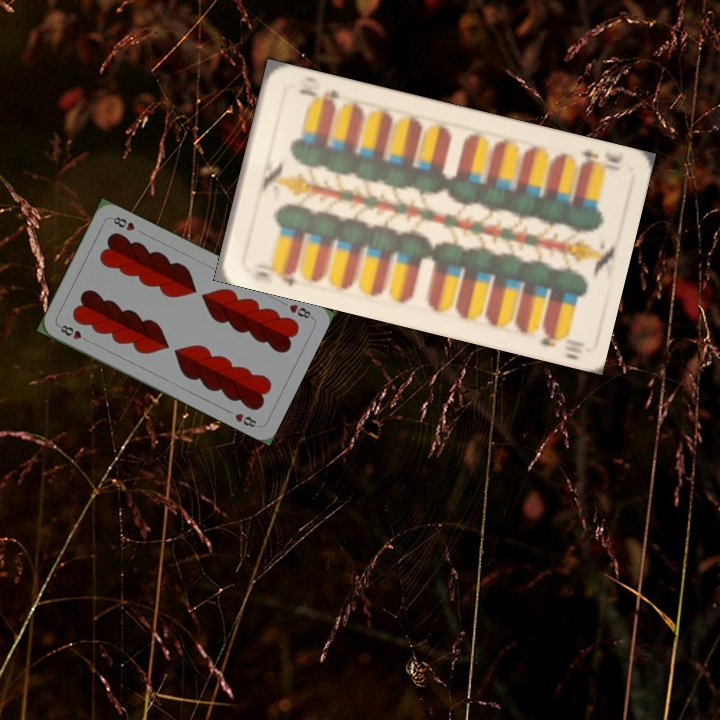E10: (241, 258, 300, 290), (576, 146, 626, 172)
H8: (55, 321, 93, 345), (285, 300, 315, 321)
